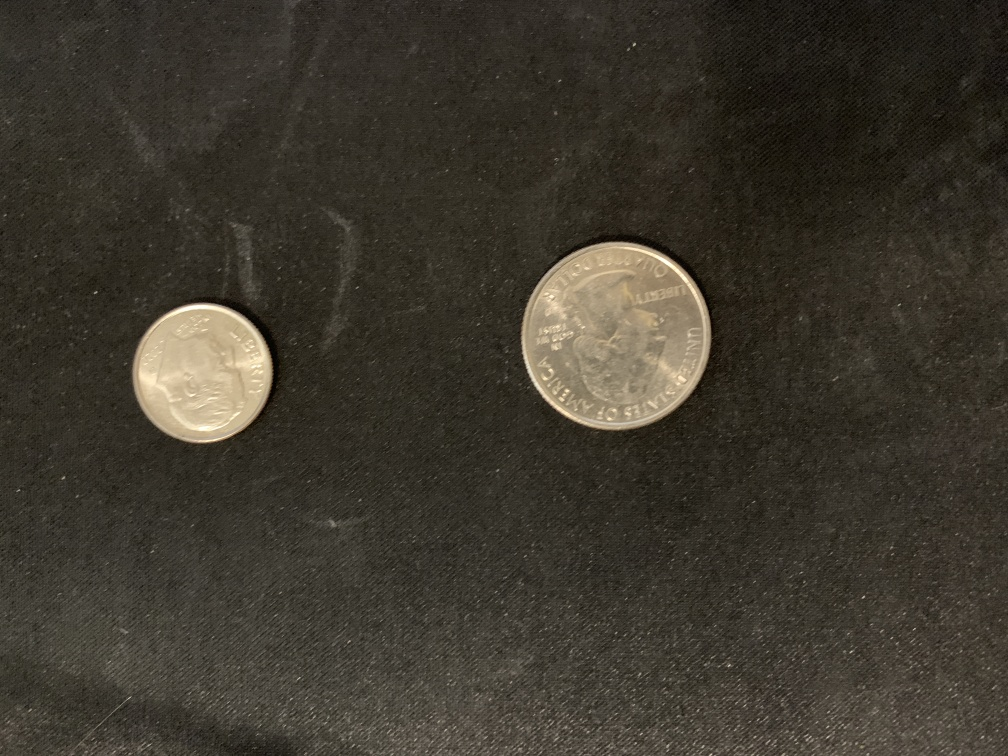dime: (127, 298, 280, 449)
quarter: (515, 234, 717, 437)
